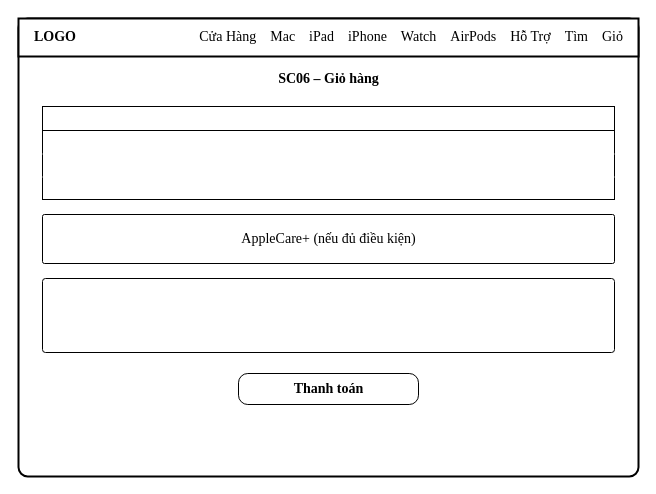
This 656x494 diagram has some shape labels left out. Each missing label, with the box of its shape:
Dòng giỏ: sản phẩm, cấu hình, số lượng, giá, xoá: (42, 106, 614, 130)
Tổng tiền, thông tin trả góp: (42, 278, 614, 352)
